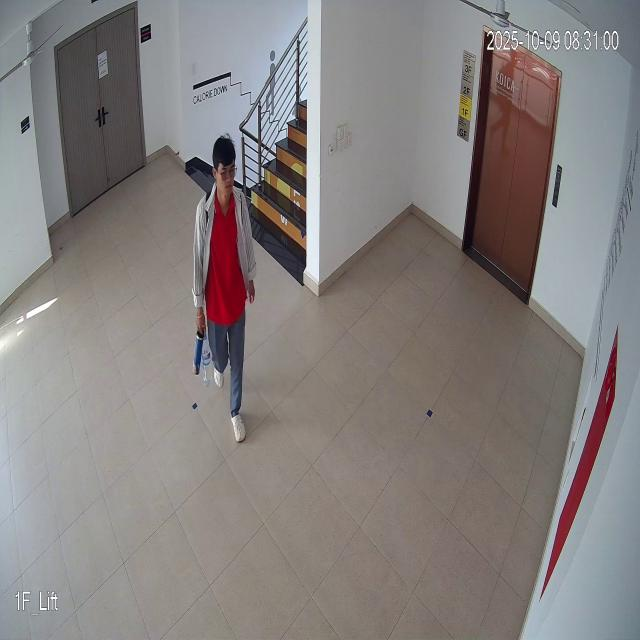face: (211, 128, 237, 213)
